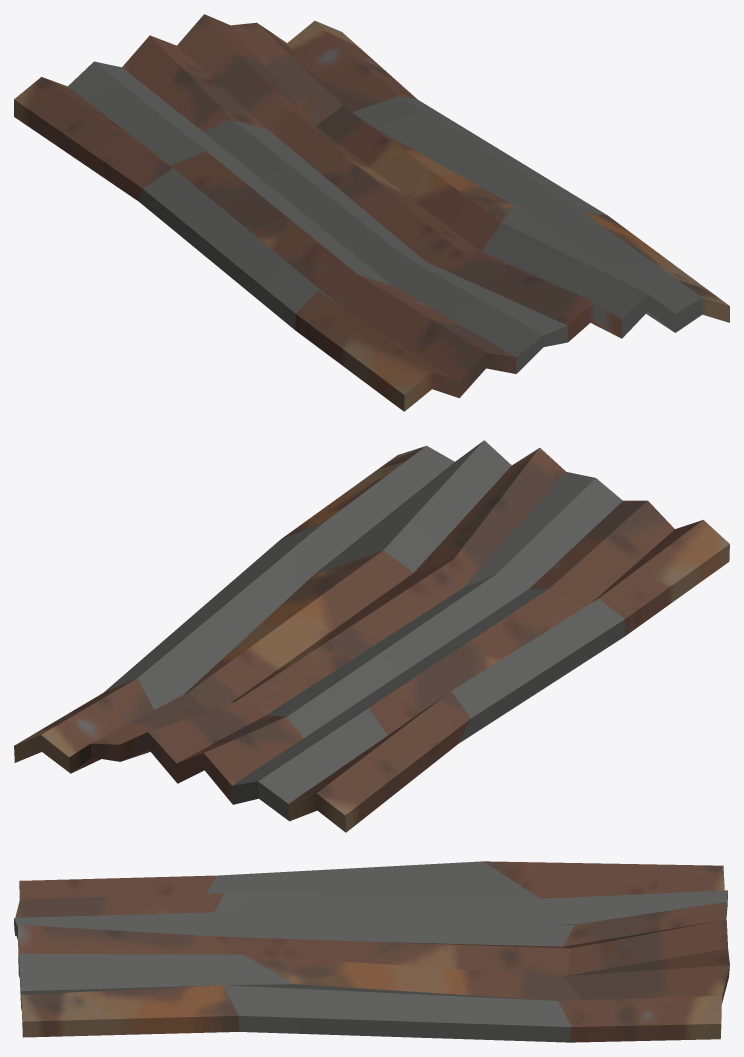
The model's file is SM_Prop_Iron_Sheet_01.obj.
The picture shows the model from 3 angles, top to bottom: view 1: azimuth 30°, elevation 25°; view 2: azimuth 150°, elevation 25°; view 3: azimuth 270°, elevation 25°; orthographic projection. The views are drawn at different scales.
Parts seen in each view (by area): view 1: SM_Prop_Iron_Sheet_01_0; view 2: SM_Prop_Iron_Sheet_01_0; view 3: SM_Prop_Iron_Sheet_01_0.
Boxes of the visible parts, left/top/right/bottom form: SM_Prop_Iron_Sheet_01_0: left=14, top=14, right=729, bottom=411; SM_Prop_Iron_Sheet_01_0: left=14, top=440, right=729, bottom=832; SM_Prop_Iron_Sheet_01_0: left=14, top=861, right=729, bottom=1042.
Bounding box in the file's own units: 0.8868 × 0.1916 × 1.81.
1 material, 1 textured.
